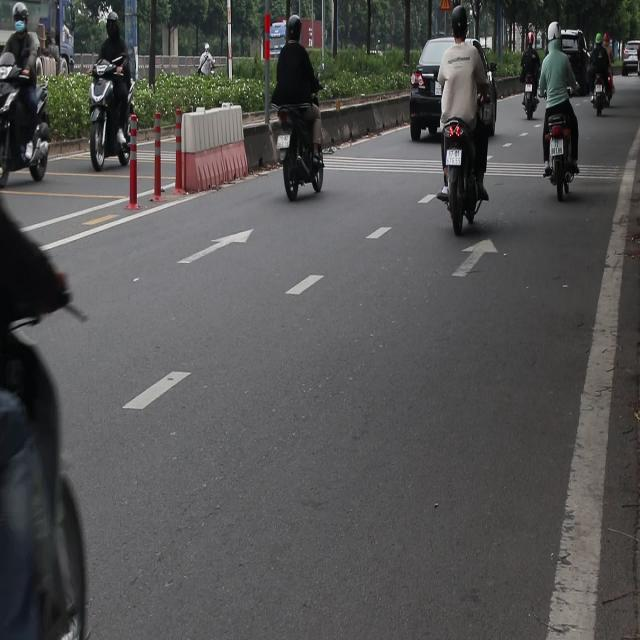car: (410, 36, 472, 142), (544, 15, 589, 101), (621, 41, 639, 77)
motorbike: (264, 79, 338, 205), (426, 117, 487, 229), (88, 30, 136, 172), (0, 68, 52, 188), (540, 112, 586, 205), (515, 55, 549, 126), (588, 67, 617, 119)
truck: (0, 2, 83, 74), (262, 9, 324, 65)
